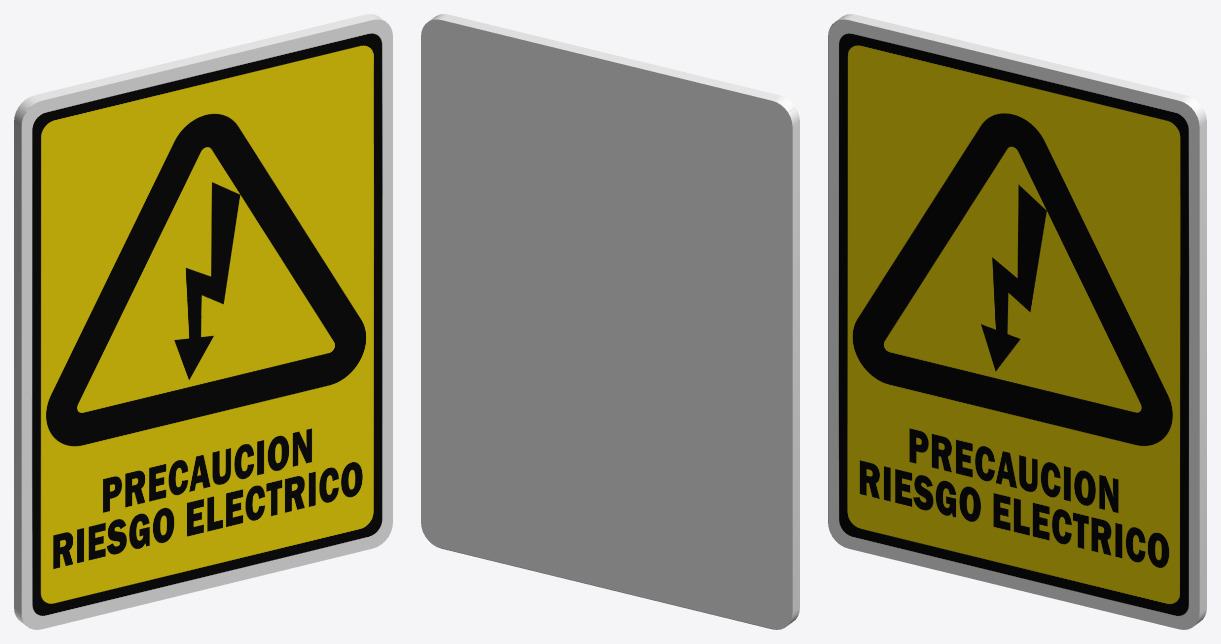
Rendered from senaletica_riesgo_electrico.glb.
3 views of the same model, side by side, from view 1: azimuth 30°, elevation 25°; view 2: azimuth 150°, elevation 25°; view 3: azimuth 330°, elevation 25° (orthographic).
Parts seen in each view (by area): view 1: riesgo electrico_0; view 2: riesgo electrico_0; view 3: riesgo electrico_0.
Boxes of the visible parts, x1,y1,x2,y2 form: riesgo electrico_0: (14, 14, 392, 629); riesgo electrico_0: (421, 14, 799, 629); riesgo electrico_0: (828, 14, 1206, 629).
Bounding box in the file's own units: 0.1471 × 0.2 × 0.00509.
Materials: 1 (1 with a texture image).
